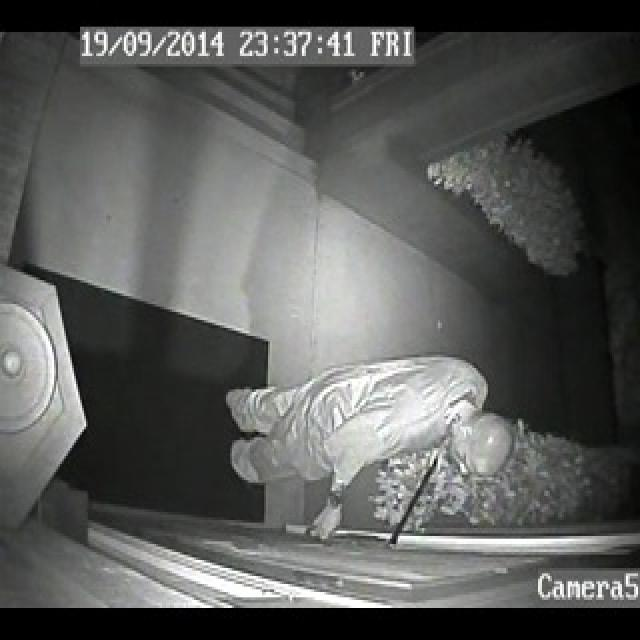burglary: (224, 353, 480, 564)
